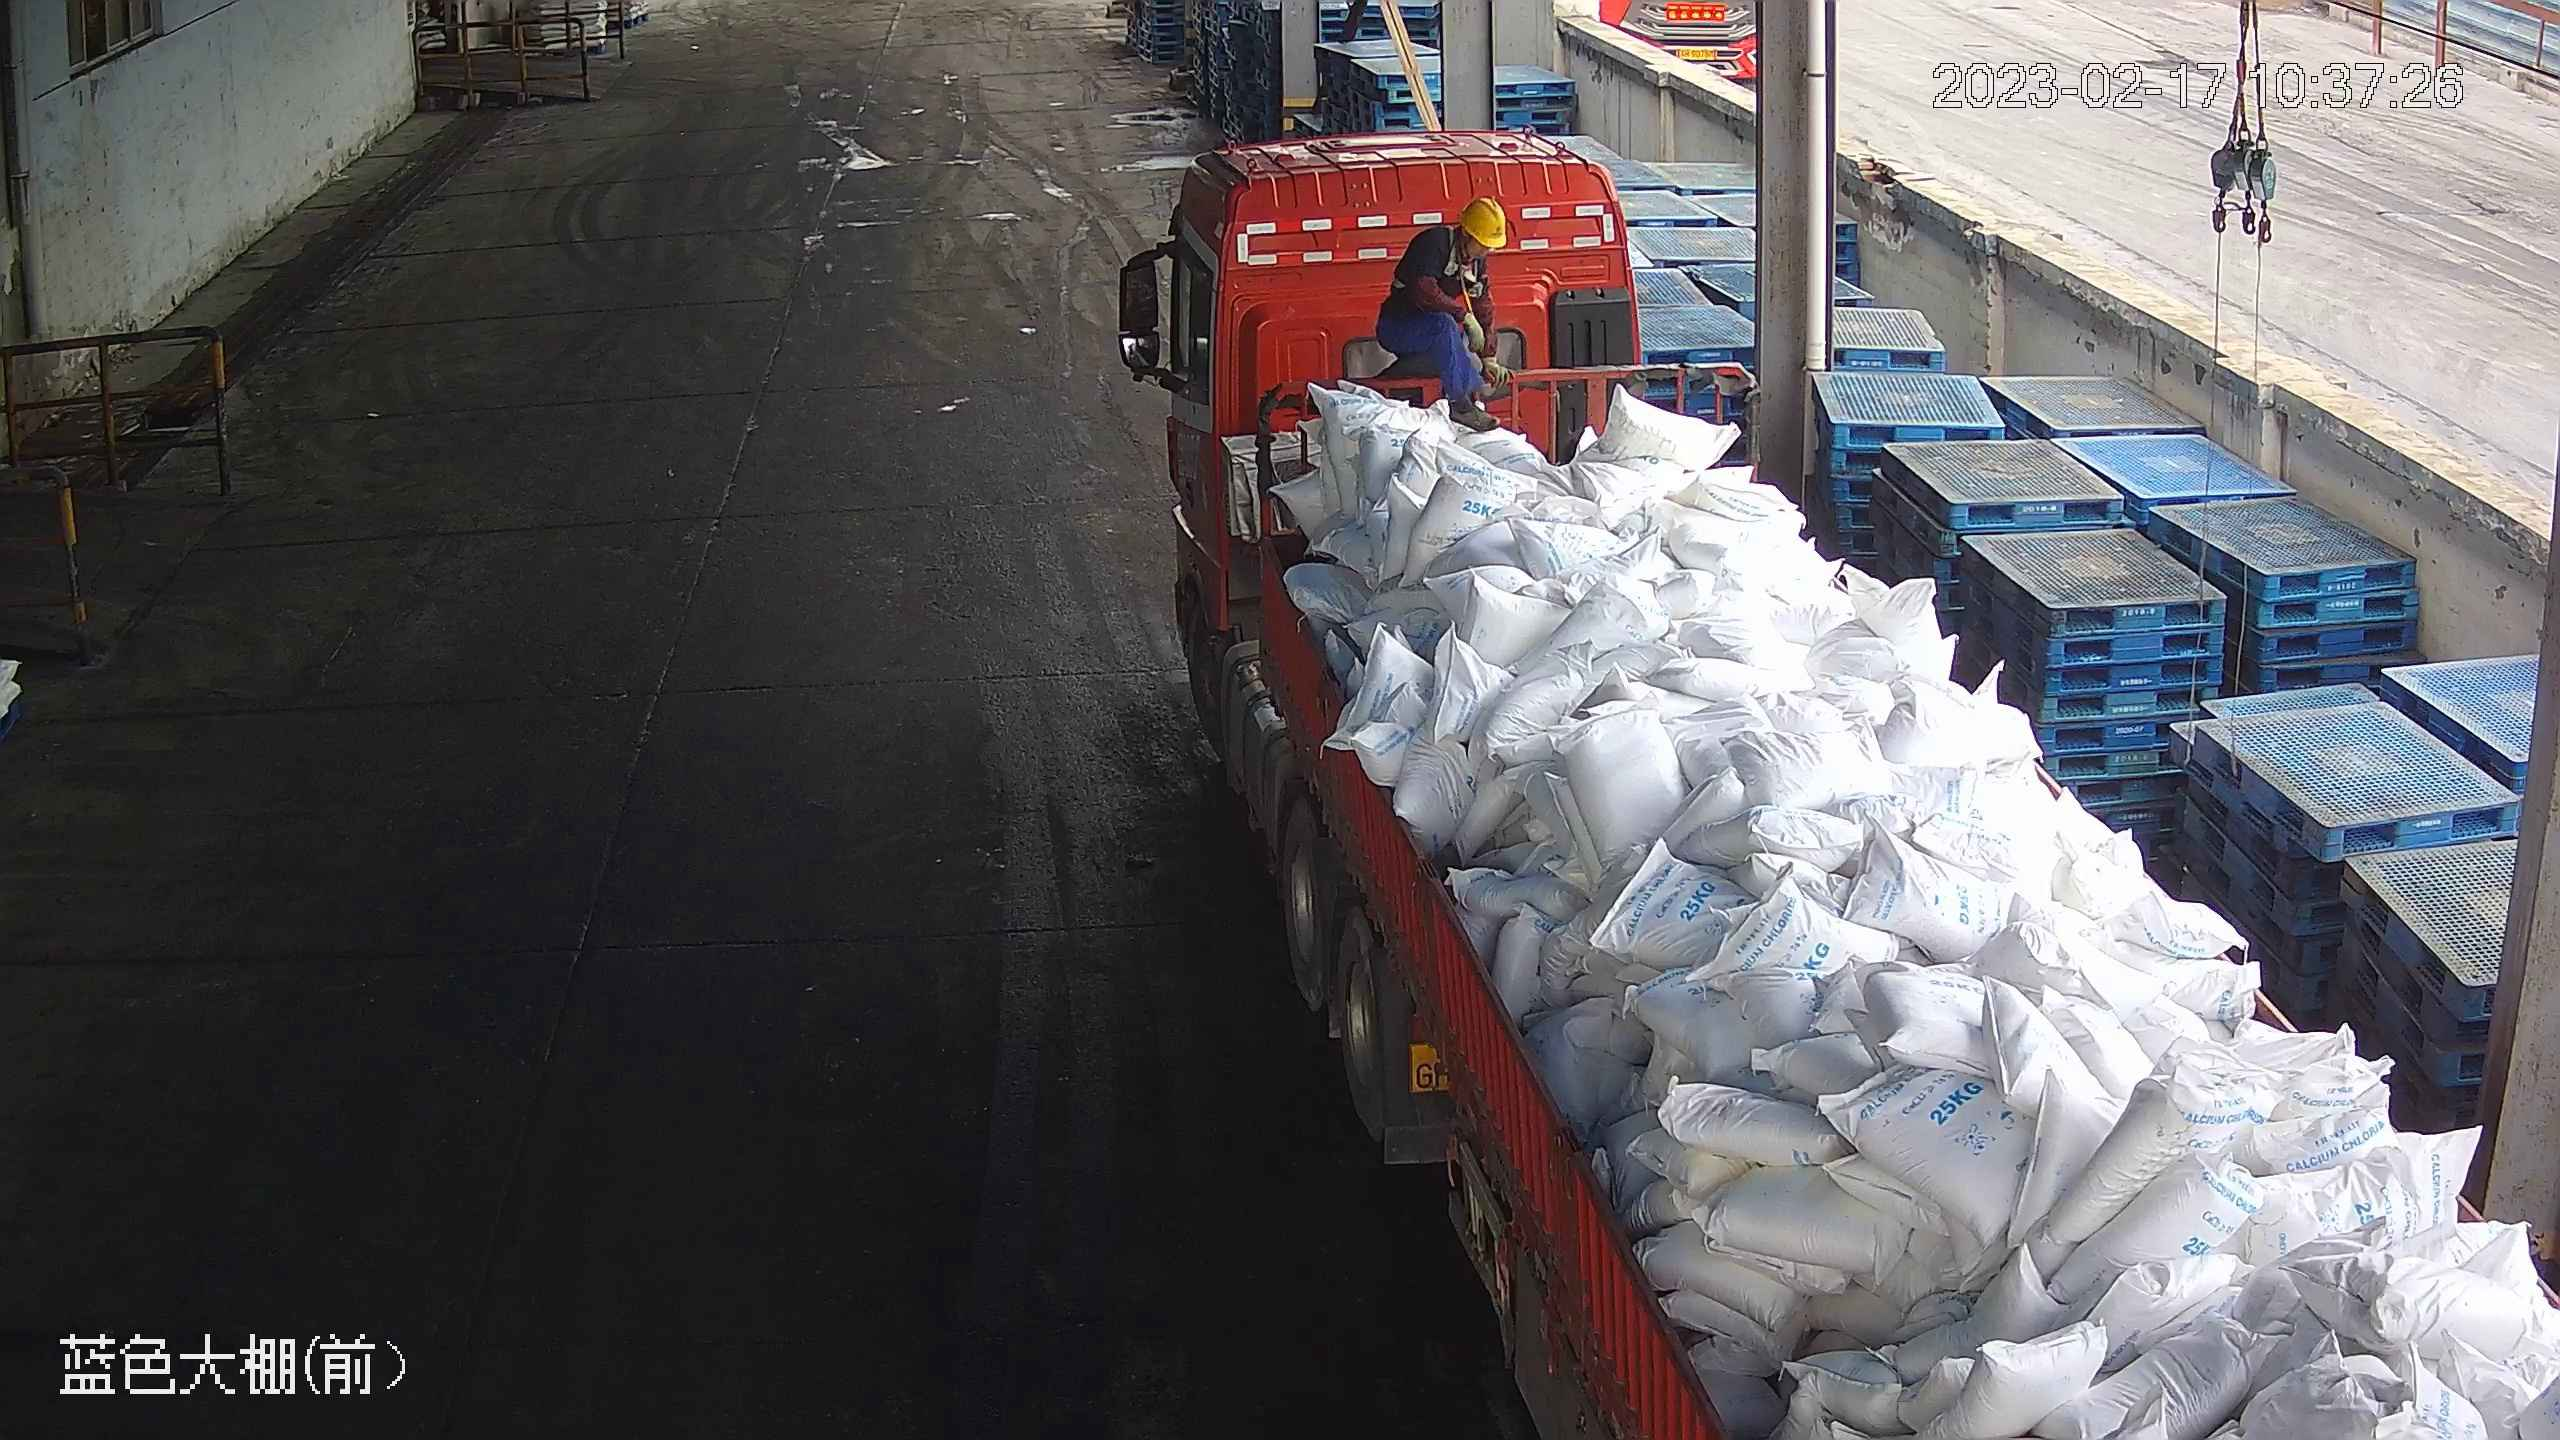belt: (1392, 226, 1479, 300)
head: (1409, 198, 1508, 276)
helmet: (1459, 197, 1508, 248)
people: (1374, 199, 1506, 431)
truck: (1161, 125, 2560, 1440)
